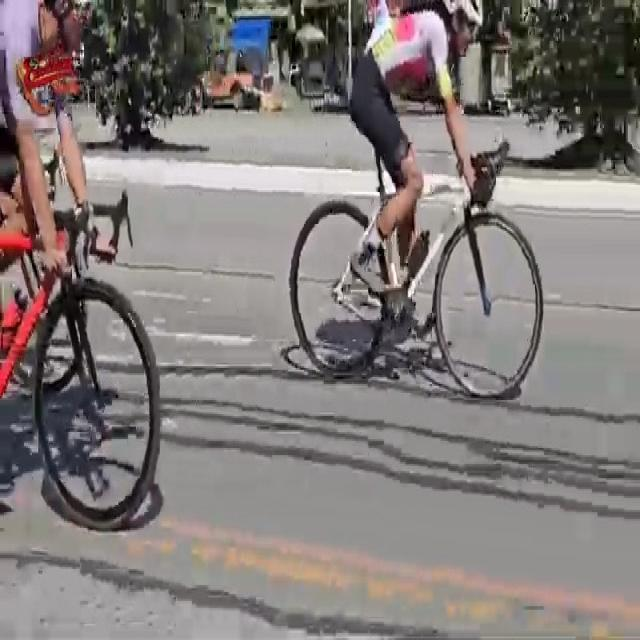bike: (286, 0, 554, 407), (0, 0, 162, 533), (0, 136, 88, 395)
